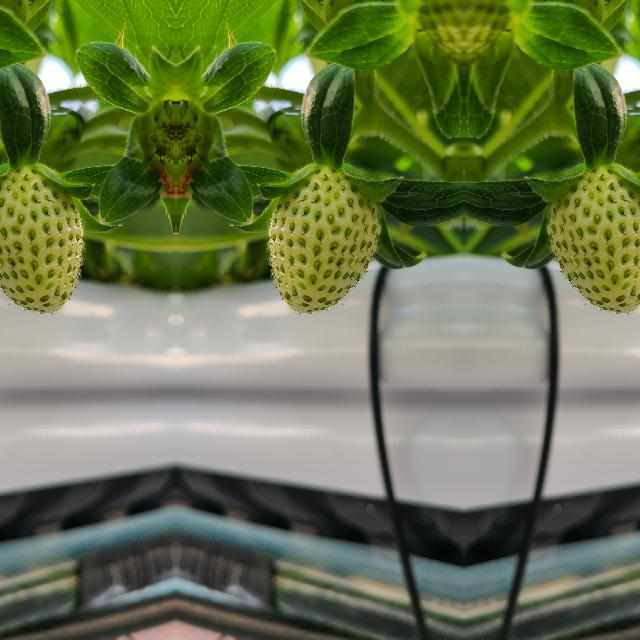Health_25: (264, 166, 382, 316), (544, 165, 640, 316), (0, 165, 86, 316)
